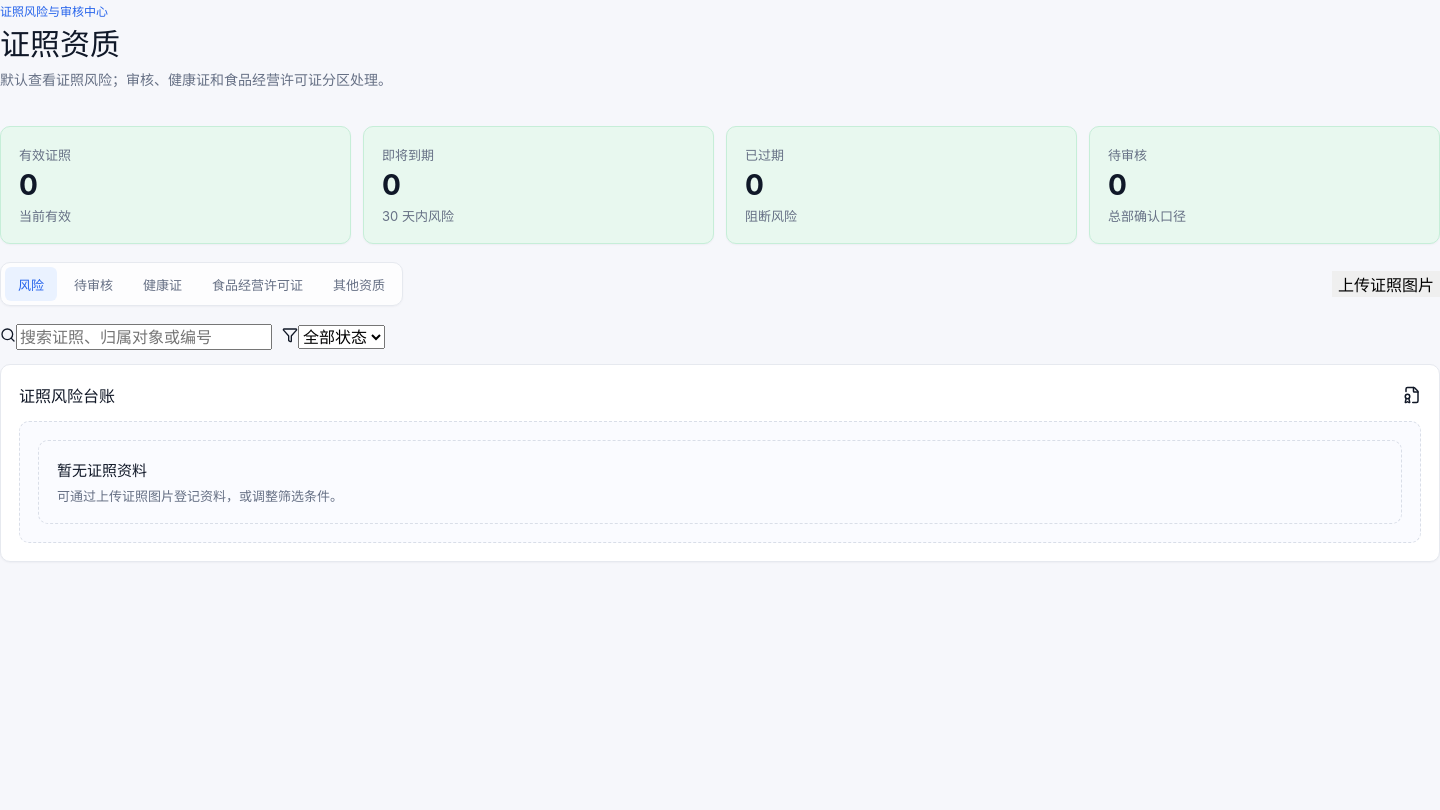
Test case: certificate image-first intake › opens a photo-first certificate intake without certificate code as a business field
Expected: the text "暂无证照资料" is shown, [57,462,147,480]
Step 1. Click the button "上传证照图片" → point(1386, 284), box [1332,272,1439,298]
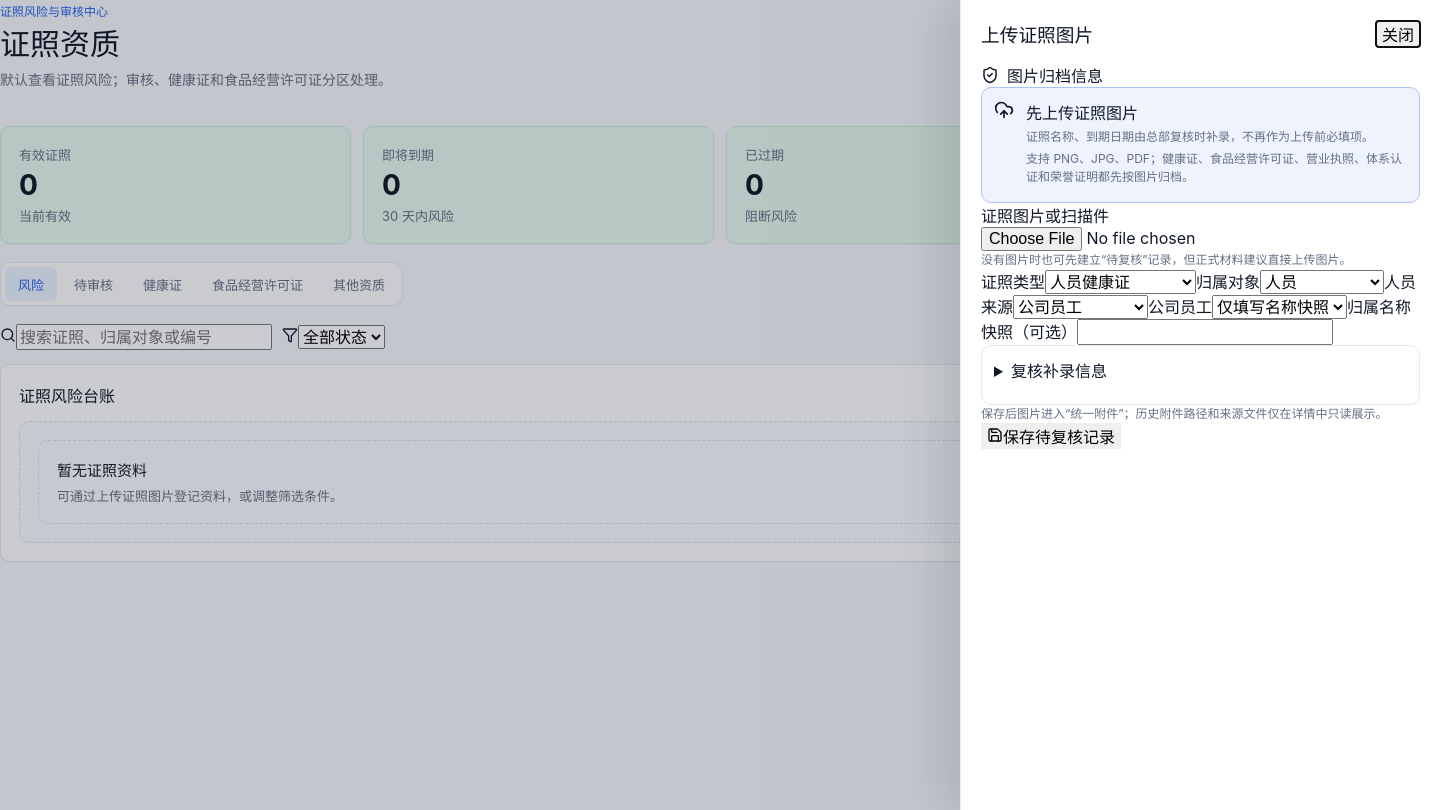
Result: the heading "上传证照图片" is shown at [981,20,1093,47]
Result: the file field labelled "证照图片或扫描件" is shown at [981,227,1325,251]
Result: the text "证照名称、到期日期由总部复核时补录，不再作为上传前必填项。" is shown at [1026,128,1407,146]
